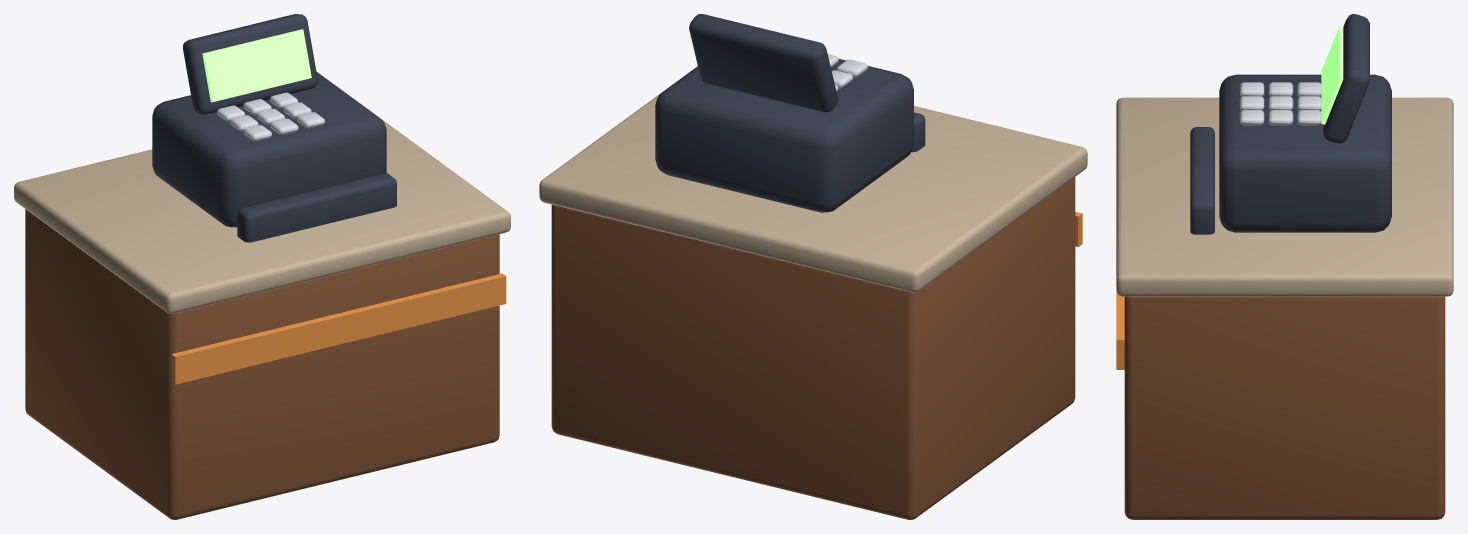
File: register.glb
The picture shows the model from 3 angles, left to right: view 1: azimuth 30°, elevation 25°; view 2: azimuth 150°, elevation 25°; view 3: azimuth 270°, elevation 25°; orthographic projection. The views are drawn at different scales.
Parts seen in each view (by area): view 1: body.021, top.007, reg.001, stripe.003, drawer.001, lcd.001, screen.001; view 2: body.021, top.007, reg.001, screen.001; view 3: body.021, top.007, reg.001, screen.001, drawer.001, lcd.001, stripe.003.
Boxes of the visible parts, x1,y1,x2,y2 form: body.021: (25,209,499,519); top.007: (14,118,510,313); reg.001: (152,71,386,227); stripe.003: (171,273,506,384); drawer.001: (237,173,396,242); lcd.001: (202,29,311,102); screen.001: (183,14,317,114); body.021: (551,177,1075,519); top.007: (539,92,1087,292); reg.001: (655,58,913,212); screen.001: (689,14,837,112); body.021: (1124,296,1445,519); top.007: (1116,97,1453,296); reg.001: (1219,74,1391,232); screen.001: (1323,14,1369,143); drawer.001: (1190,127,1214,234); lcd.001: (1321,26,1343,124); stripe.003: (1116,291,1124,369).
Bounding box in the file's own units: 1.04 × 1.08 × 0.82.
